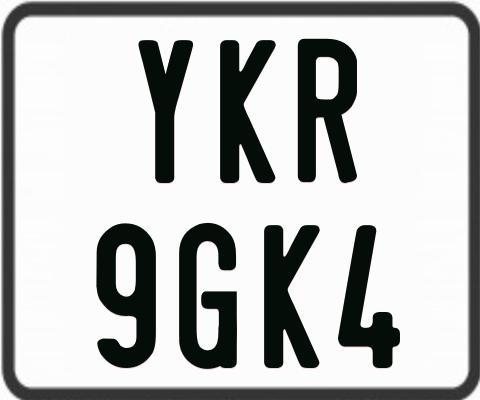4: (336, 223, 400, 368)
9: (95, 221, 158, 370)
G: (176, 221, 237, 373)
K: (219, 39, 276, 186), (262, 224, 319, 368)
R: (297, 38, 361, 183)
Y: (135, 38, 196, 186)
